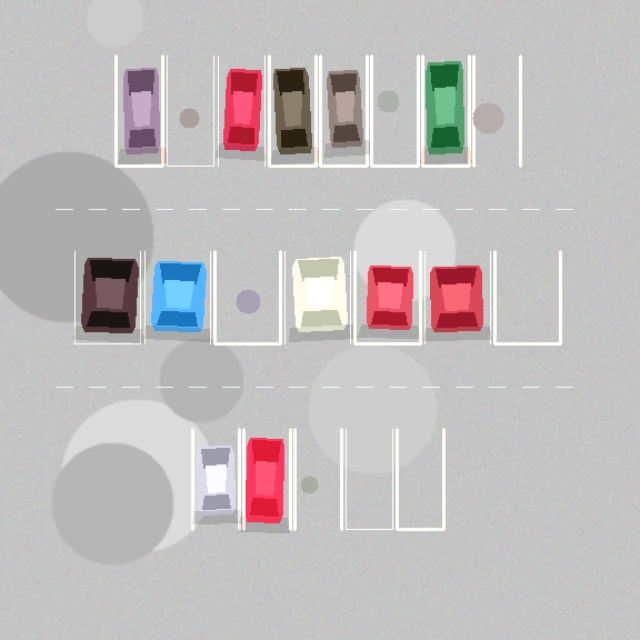space-empty: (214, 251, 280, 343), (494, 251, 560, 343), (371, 56, 418, 166), (473, 56, 520, 166), (167, 56, 213, 166), (294, 429, 341, 529), (346, 429, 392, 529), (397, 429, 443, 529)
space-occupied: (74, 251, 140, 343), (144, 251, 210, 343), (284, 251, 350, 343), (354, 251, 420, 343), (424, 251, 490, 343), (269, 56, 316, 166), (320, 56, 367, 166), (422, 56, 469, 166), (116, 56, 162, 166), (218, 56, 264, 166), (192, 429, 239, 529), (243, 429, 290, 529)
